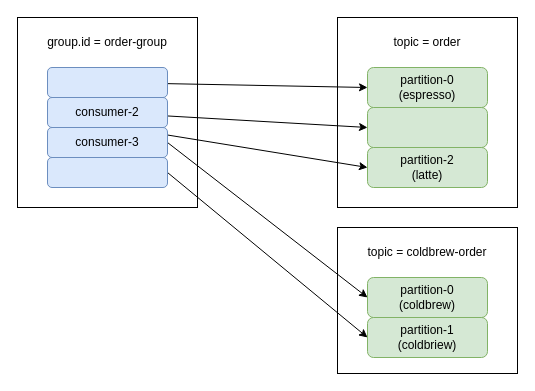
Some shapes in this 535 by 391 pixel diagram are drawn without their labels. The shapes that lost their labels are listed below. From the top down, each one's centre as x and y in pixels, then its label:
At point 107,82: "consumer-1".
At point 427,127: "partition-1 (americano)".
At point 107,172: "consumer-4".
